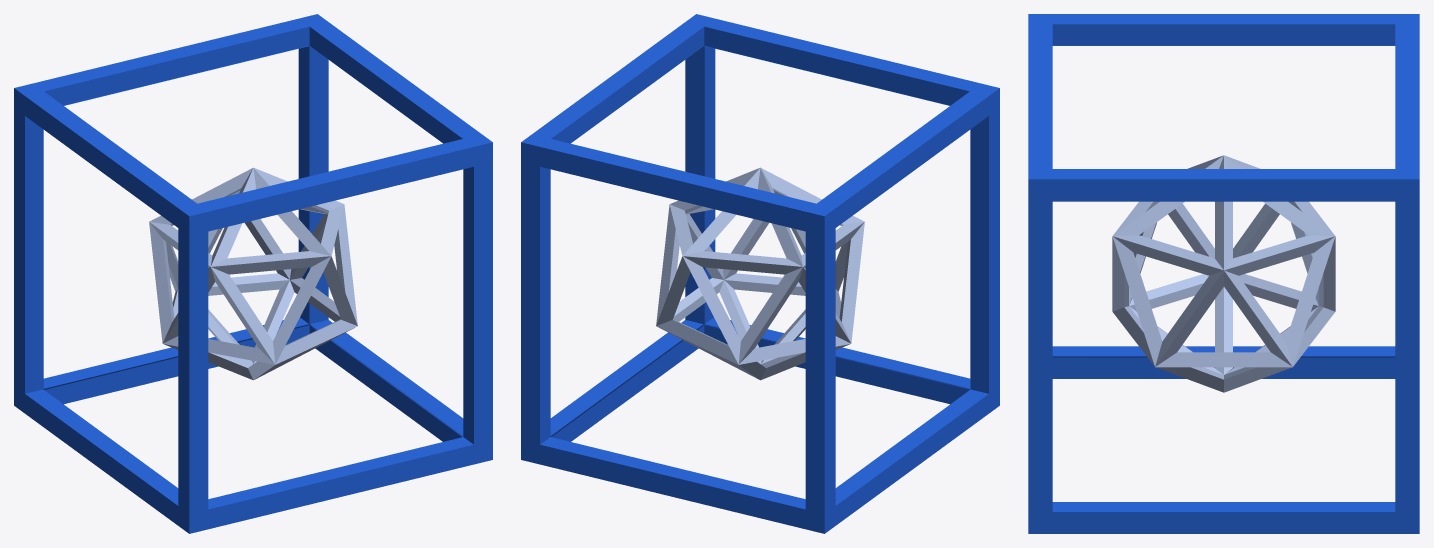
File: BBox.fbx
The picture shows the model from 3 angles, left to right: view 1: azimuth 30°, elevation 25°; view 2: azimuth 150°, elevation 25°; view 3: azimuth 270°, elevation 25°; orthographic projection. The views are drawn at different scales.
Parts seen in each view (by area): view 1: Cube, Icosphere; view 2: Cube, Icosphere; view 3: Cube, Icosphere.
Boxes of the visible parts, x1=… form: Cube: x1=14, y1=14, x2=492, y2=533; Icosphere: x1=149, y1=167, x2=357, y2=380; Cube: x1=521, y1=14, x2=999, y2=533; Icosphere: x1=656, y1=167, x2=864, y2=380; Cube: x1=1028, y1=14, x2=1419, y2=533; Icosphere: x1=1112, y1=155, x2=1335, y2=392.
Bounding box in the file's own units: 100 × 100 × 100.
